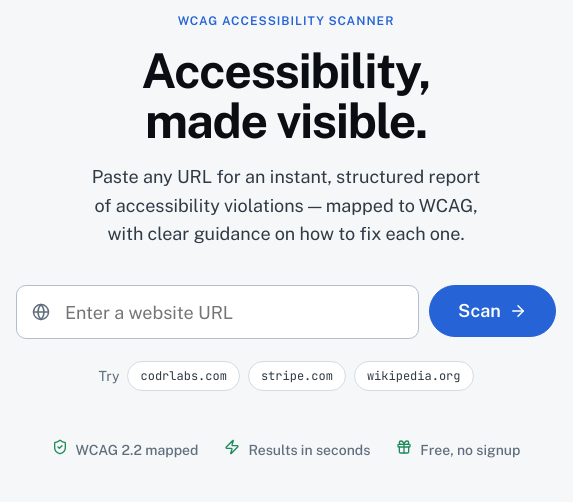
Test: LandingView › shows a validation error and does not scan on invalid input
Type "not a url" into the field labelled "website URL" at (218, 312), box 16,285 -> 419,339
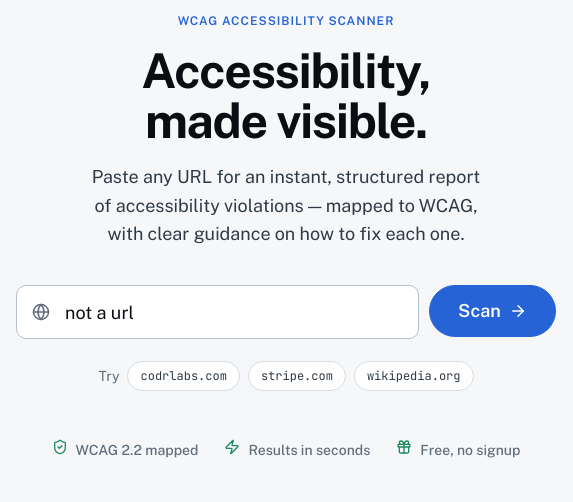
Click the button "Scan" at (493, 311), box 429,285 -> 556,337
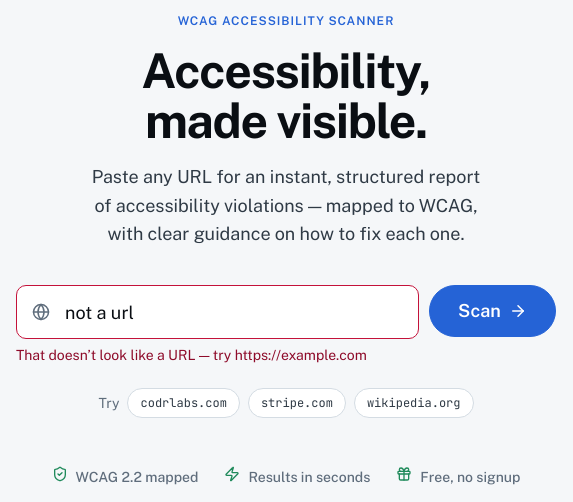
expect the message shows "doesn’t look like a URL": met, box 16,347 -> 367,363
